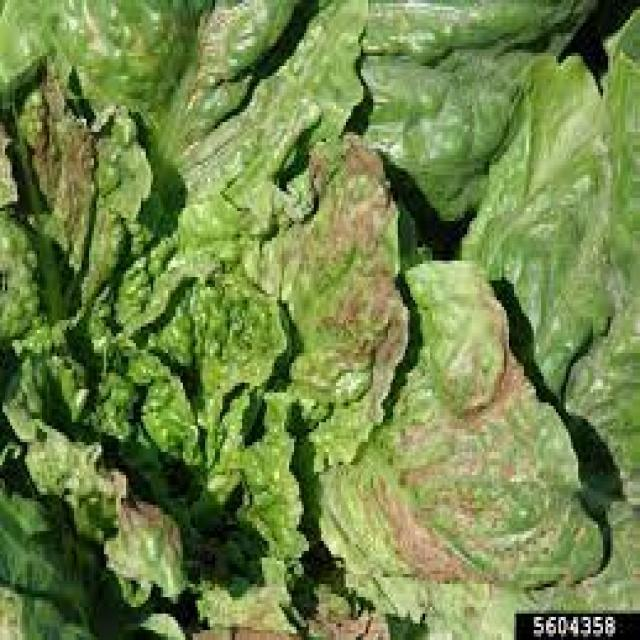Viral: (325, 323, 546, 608)
